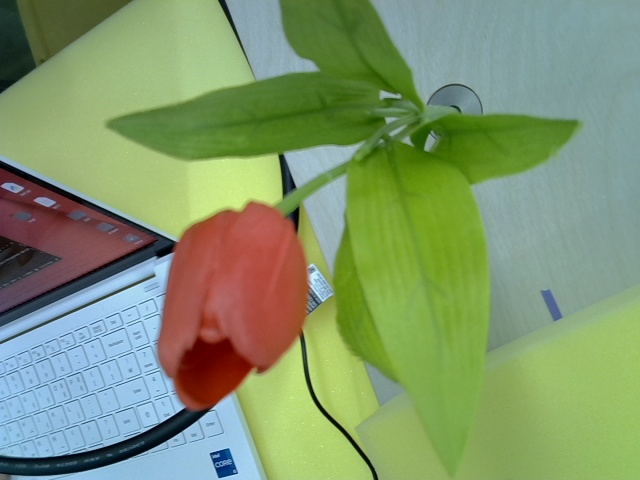튤립: (158, 201, 314, 409)
